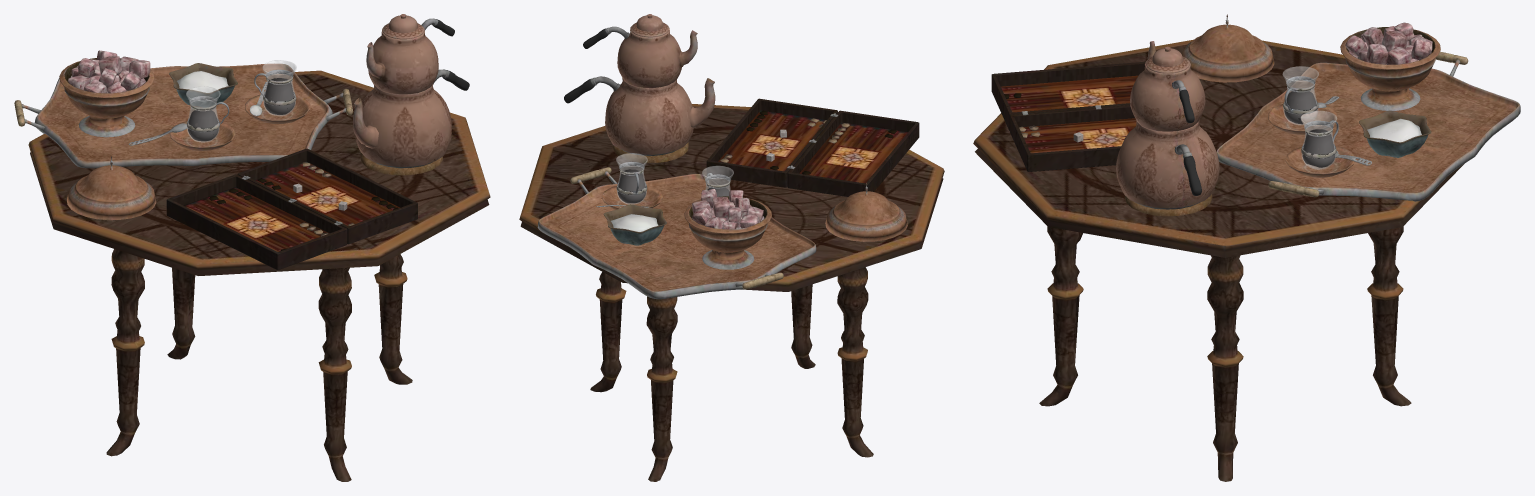
Rendered from lokum.glb.
The picture shows the model from 3 angles, left to right: view 1: azimuth 30°, elevation 25°; view 2: azimuth 150°, elevation 25°; view 3: azimuth 270°, elevation 25°; orthographic projection. The views are drawn at different scales.
Parts seen in each view (by area): view 1: backgamon_backgamon_table_mat_0, bowl_turkishdelight_dishes_mat_0, tea_glas_0, tea_tea_0; view 2: backgamon_backgamon_table_mat_0, bowl_turkishdelight_dishes_mat_0, tea_glas_0, tea_tea_0; view 3: backgamon_backgamon_table_mat_0, bowl_turkishdelight_dishes_mat_0, tea_glas_0, tea_tea_0.
Part boxes in pixels (box(x1,y1,x2,y2)): backgamon_backgamon_table_mat_0: box(28, 70, 490, 481); bowl_turkishdelight_dishes_mat_0: box(14, 14, 469, 220); tea_glas_0: box(186, 60, 296, 142); tea_tea_0: box(188, 78, 294, 141); backgamon_backgamon_table_mat_0: box(519, 98, 944, 481); bowl_turkishdelight_dishes_mat_0: box(537, 14, 907, 299); tea_glas_0: box(616, 153, 733, 204); tea_tea_0: box(617, 169, 729, 203); backgamon_backgamon_table_mat_0: box(973, 39, 1463, 481); bowl_turkishdelight_dishes_mat_0: box(1116, 14, 1520, 209); tea_glas_0: box(1282, 66, 1336, 169); tea_tea_0: box(1284, 91, 1335, 167).
Size of the model in its own units: 1.27 by 1.16 by 1.38.
4 materials, 2 textured.
